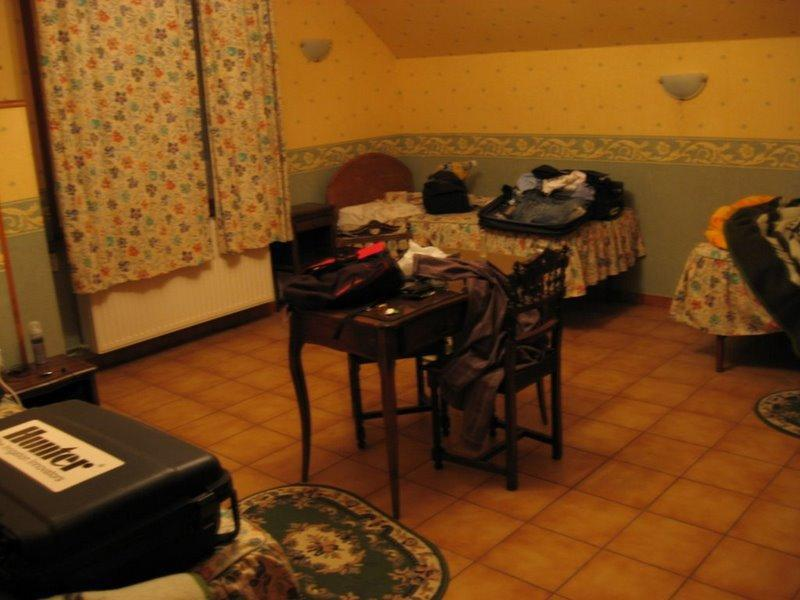Cama: (5, 407, 300, 596), (344, 156, 650, 297), (687, 215, 799, 369)
